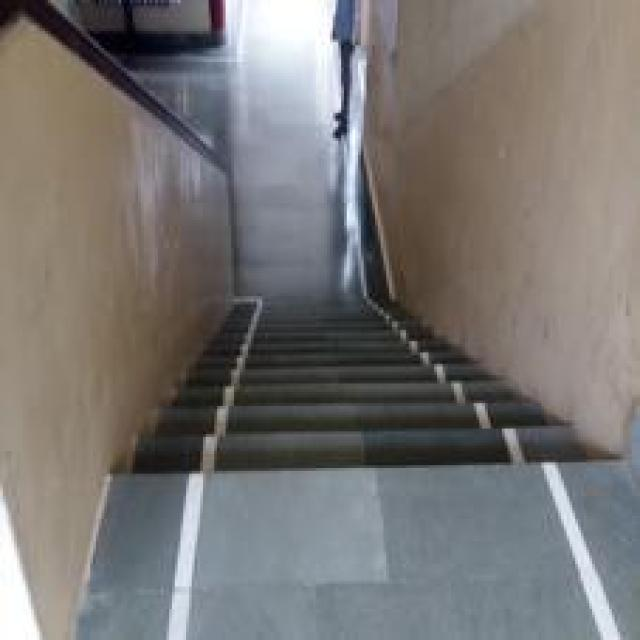downstair: (94, 342, 587, 523)
